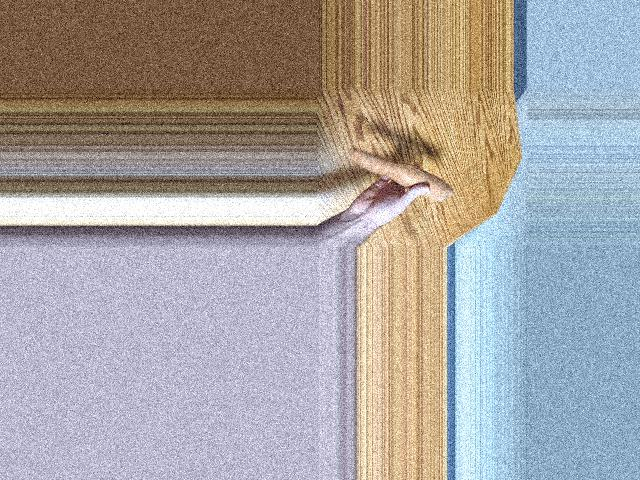sweet_potato: (347, 155, 456, 189)
